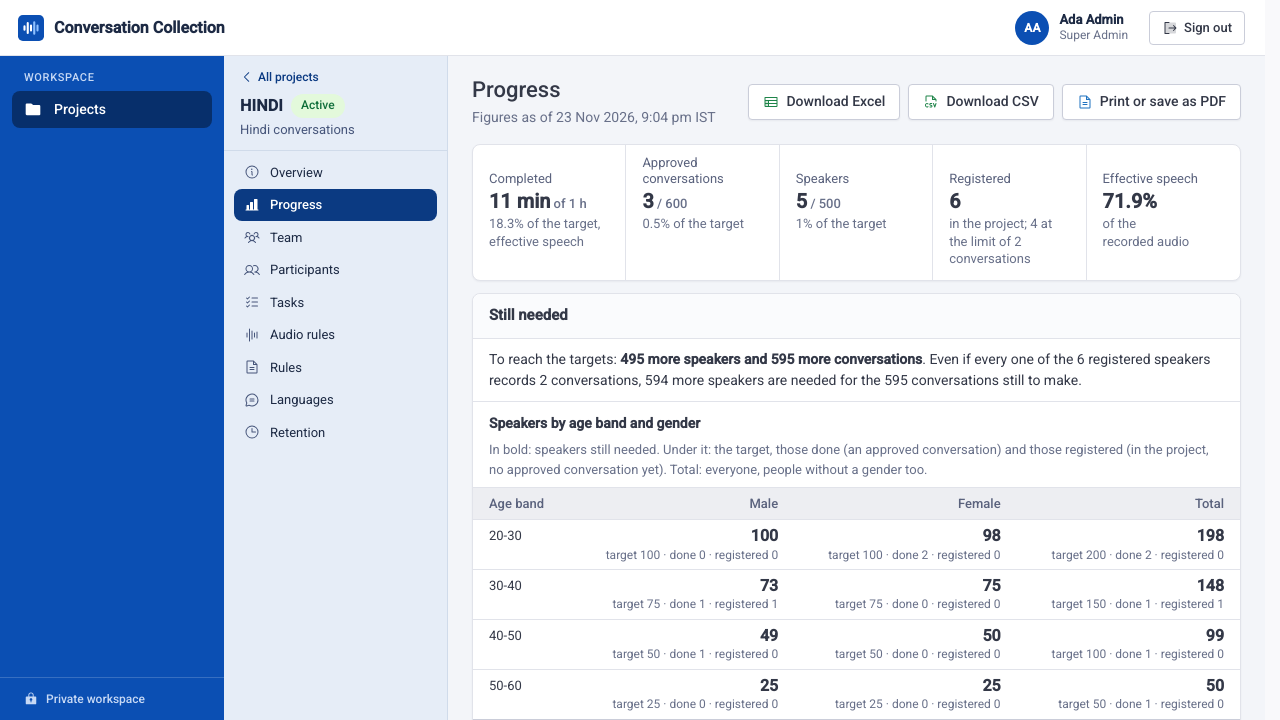
Scenario: the Progress tab as a file (owner's request) › says why a download failed
This screenshot has width=1280, height=720.
Click the button "Download CSV": (981, 102) [908,84,1054,120]
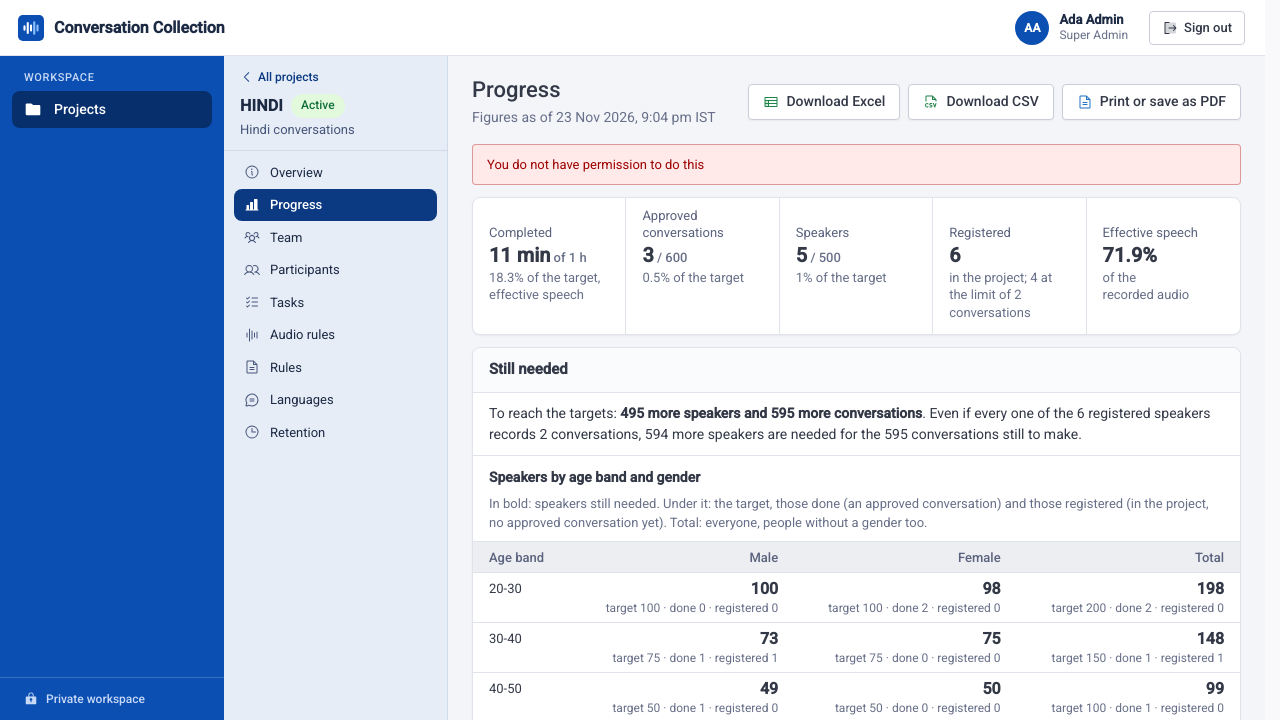
Check: the message reads "You do not have permission to do this", box [487,157,704,172]
